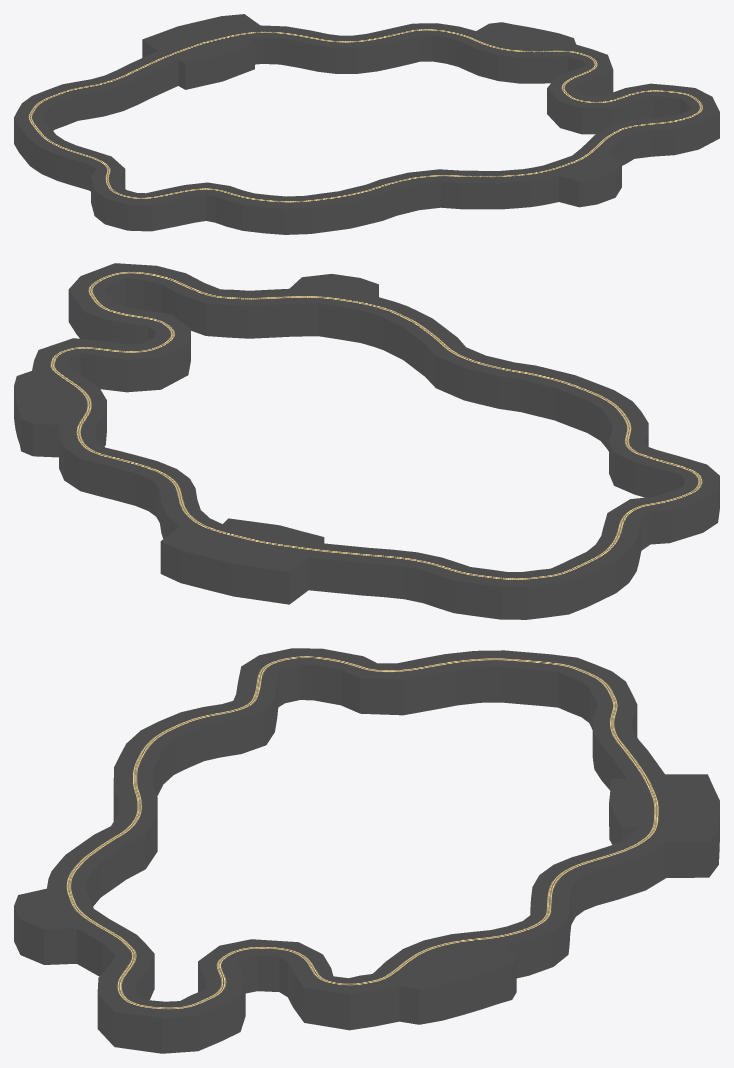
Rendered from road.glb.
The picture shows the model from 3 angles, top to bottom: view 1: azimuth 30°, elevation 25°; view 2: azimuth 150°, elevation 25°; view 3: azimuth 270°, elevation 25°; orthographic projection. The views are drawn at different scales.
Parts seen in each view (by area): view 1: road; view 2: road; view 3: road.
Part boxes in pixels (x1,y1,x2,y2): road: (14, 14, 719, 234); road: (14, 263, 719, 619); road: (14, 648, 719, 1053).
Bounding box in the file's own units: 156 × 7.01 × 126.
Materials: 1 (1 with a texture image).
